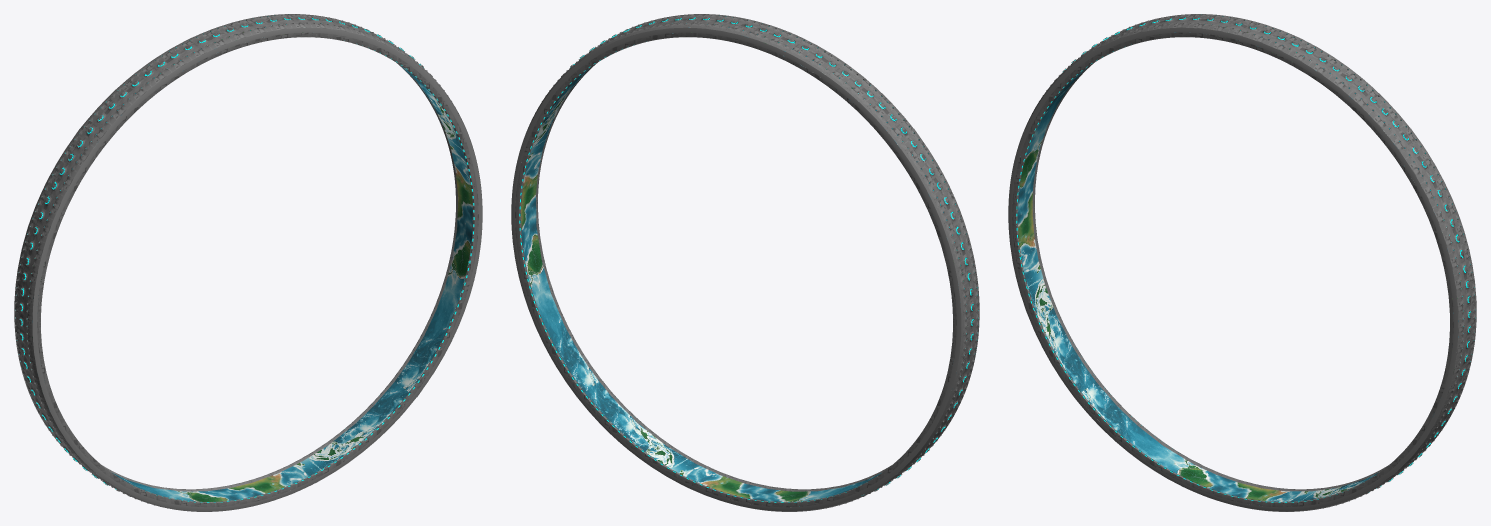
Rendered from halo_ring.glb.
The picture shows the model from 3 angles, left to right: view 1: azimuth 30°, elevation 25°; view 2: azimuth 150°, elevation 25°; view 3: azimuth 330°, elevation 25°; orthographic projection.
Parts seen in each view (by area): view 1: MaterialFBXASC032FBXASC0352142150746; view 2: MaterialFBXASC032FBXASC0352142150746; view 3: MaterialFBXASC032FBXASC0352142150746.
Boxes of the visible parts, bbox=[...] form: MaterialFBXASC032FBXASC0352142150746: bbox=[14, 14, 482, 511]; MaterialFBXASC032FBXASC0352142150746: bbox=[511, 14, 979, 511]; MaterialFBXASC032FBXASC0352142150746: bbox=[1008, 14, 1476, 511].
Bounding box in the file's own units: 0.9997 × 0.9996 × 0.0725.
Materials: 4 (2 with a texture image).
